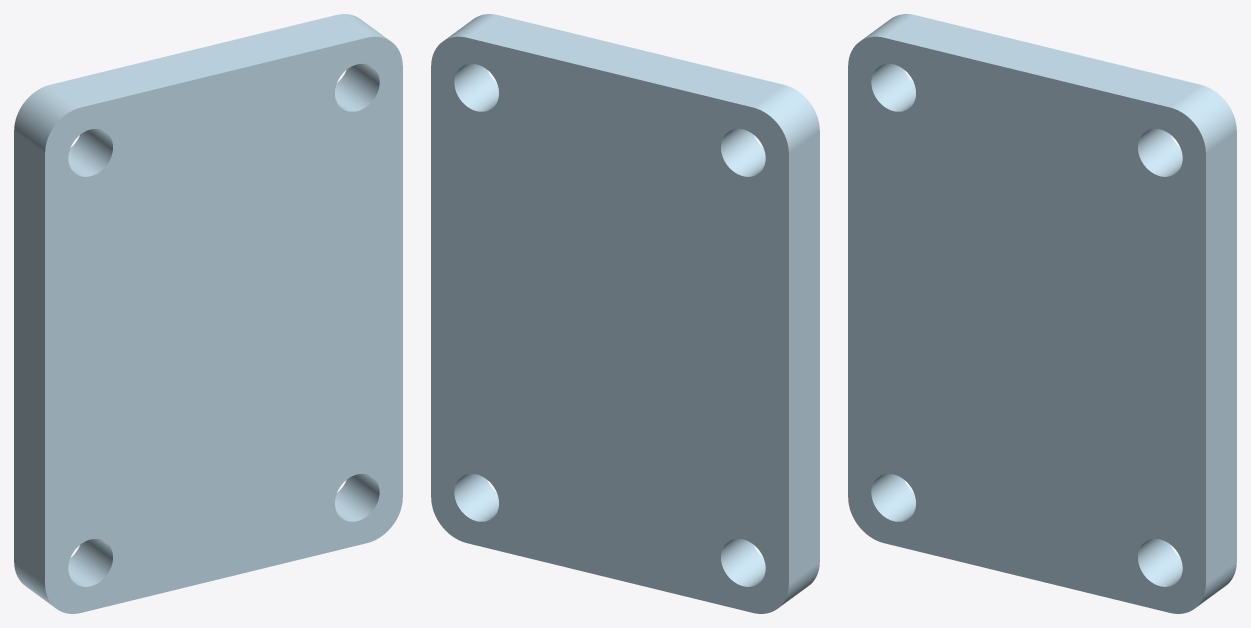
File: BNO055.gltf
The picture shows the model from 3 angles, left to right: view 1: azimuth 30°, elevation 25°; view 2: azimuth 150°, elevation 25°; view 3: azimuth 330°, elevation 25°; orthographic projection.
Parts seen in each view (by area): view 1: mesh1953, mesh1958, mesh1957, mesh1959, mesh1952, mesh1963, mesh1964, mesh1965, mesh1962; view 2: mesh1954, mesh1958, mesh1957, mesh1959, mesh1952, mesh1963, mesh1964, mesh1965, mesh1962; view 3: mesh1953, mesh1956, mesh1957, mesh1960, mesh1965, mesh1964, mesh1952, mesh1963, mesh1961.
Part boxes in pixels (box(x1,y1,x2,y2)): mesh1953: box(45, 36, 402, 613); mesh1958: box(14, 131, 44, 583); mesh1957: box(50, 15, 366, 107); mesh1959: box(14, 85, 80, 153); mesh1952: box(335, 473, 379, 521); mesh1963: box(335, 63, 379, 111); mesh1964: box(68, 129, 112, 176); mesh1965: box(68, 539, 112, 586); mesh1962: box(14, 562, 53, 606); mesh1954: box(431, 36, 788, 613); mesh1958: box(789, 131, 819, 583); mesh1957: box(467, 15, 783, 107); mesh1959: box(753, 85, 819, 153); mesh1952: box(454, 473, 498, 521); mesh1963: box(454, 63, 498, 111); mesh1964: box(721, 129, 765, 176); mesh1965: box(721, 539, 765, 586); mesh1962: box(780, 562, 819, 606); mesh1953: box(848, 36, 1205, 613); mesh1956: box(1206, 131, 1236, 583); mesh1957: box(884, 15, 1200, 107); mesh1960: box(1170, 85, 1236, 153); mesh1965: box(871, 473, 915, 521); mesh1964: box(871, 63, 915, 111); mesh1952: box(1138, 539, 1182, 586); mesh1963: box(1138, 129, 1182, 176); mesh1961: box(1197, 562, 1236, 606).
Size of the model in its own units: 0.02 by 0.027 by 0.003.
